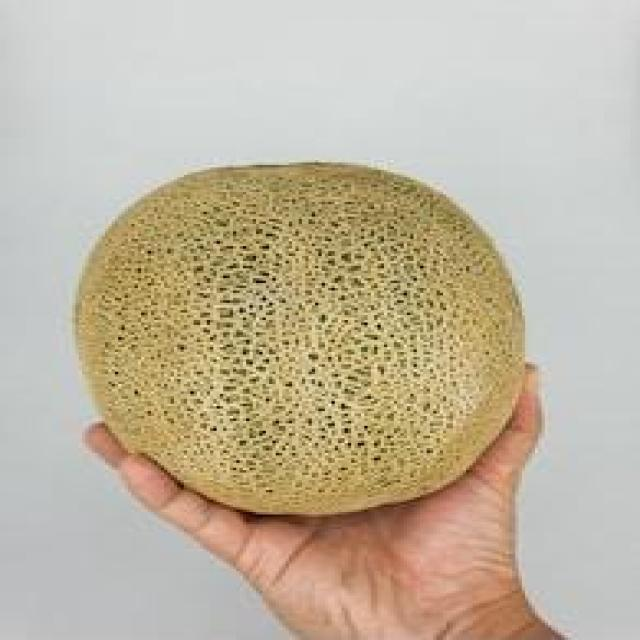Hami Melon: (72, 163, 524, 518)
